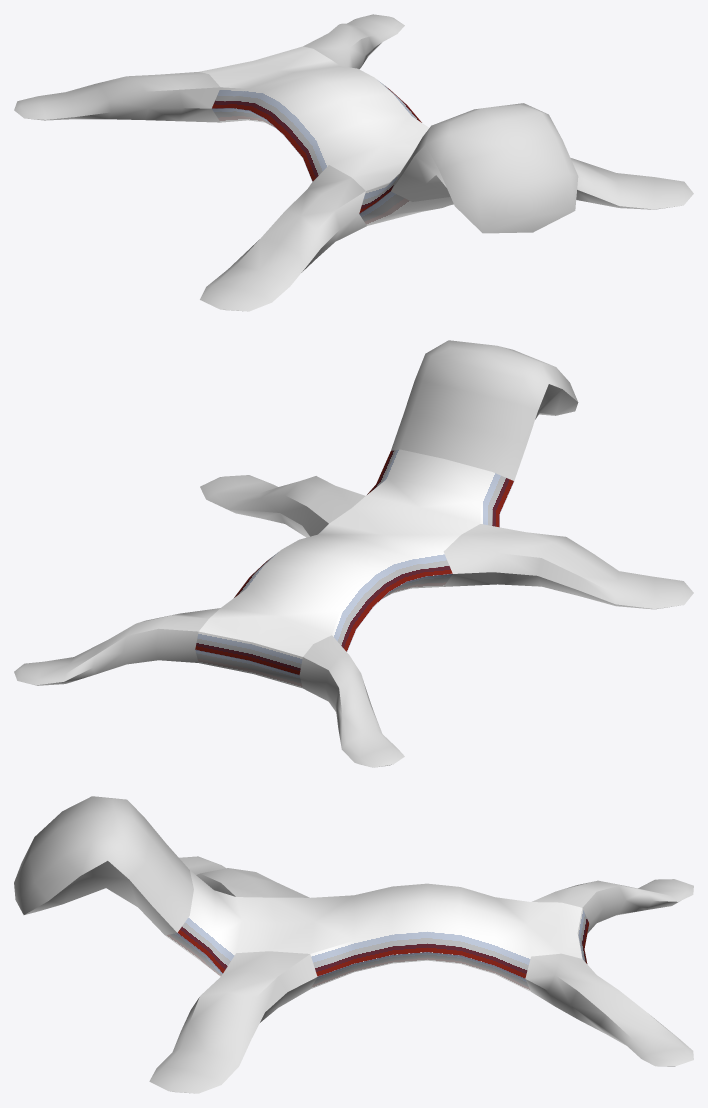
Rendered from monster2.obj.
The picture shows the model from 3 angles, top to bottom: view 1: azimuth 30°, elevation 25°; view 2: azimuth 150°, elevation 25°; view 3: azimuth 270°, elevation 25°; orthographic projection.
Visible parts, largest first — view 1: mesh01; view 2: mesh01; view 3: mesh01.
Boxes of the visible parts, x1,y1,x2,y2 form: mesh01: (14,14,693,311); mesh01: (14,340,693,767); mesh01: (14,796,693,1093).
Size of the model in its own units: 146 by 48.72 by 177.
